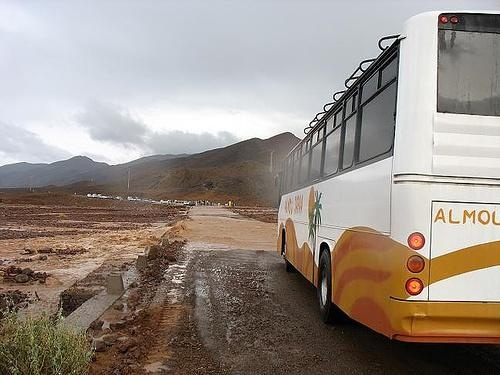bus: (277, 11, 500, 350)
